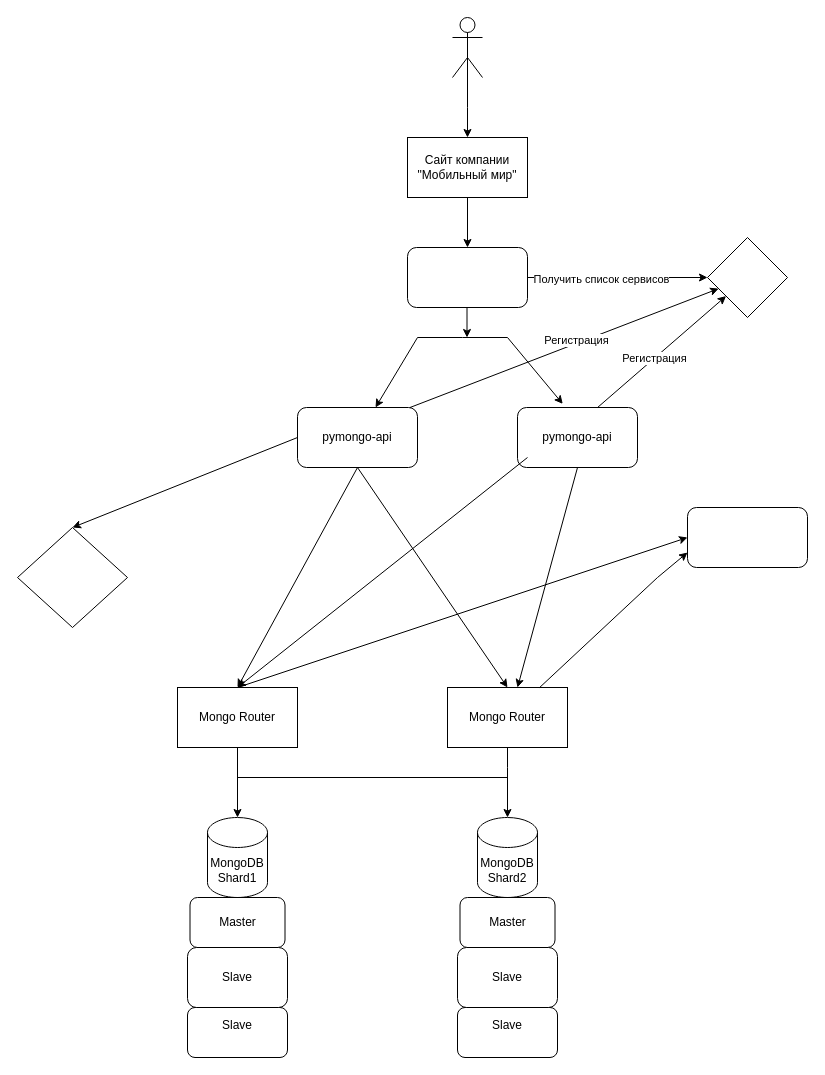
Image size: 825x1075. Some labels were removed from this diagram. The centre of each missing label's shape, as x and y in pixels:
Api Gateway: the point at 467,277
Consul: the point at 747,277
Mongo Config Server Replica Set (3 pods): the point at 747,537
Redis (standalone): the point at 72,577
User: the point at 467,47
